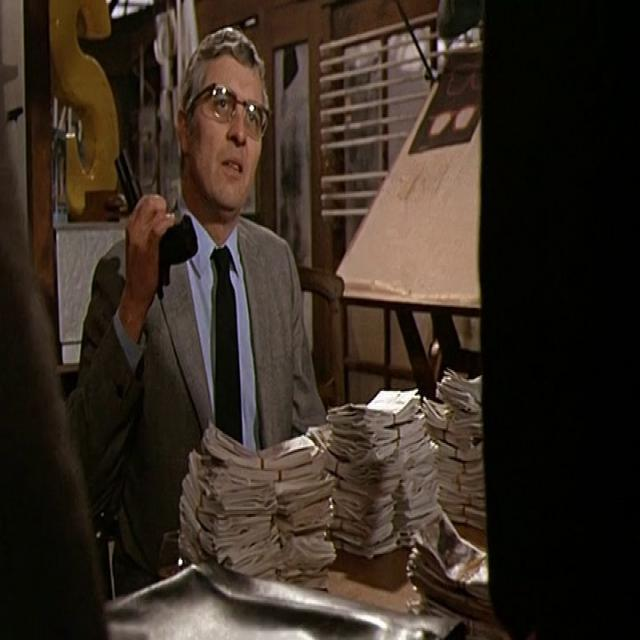gun-knife-thesis - v11 Yolov5 augmented: (110, 138, 198, 299)
